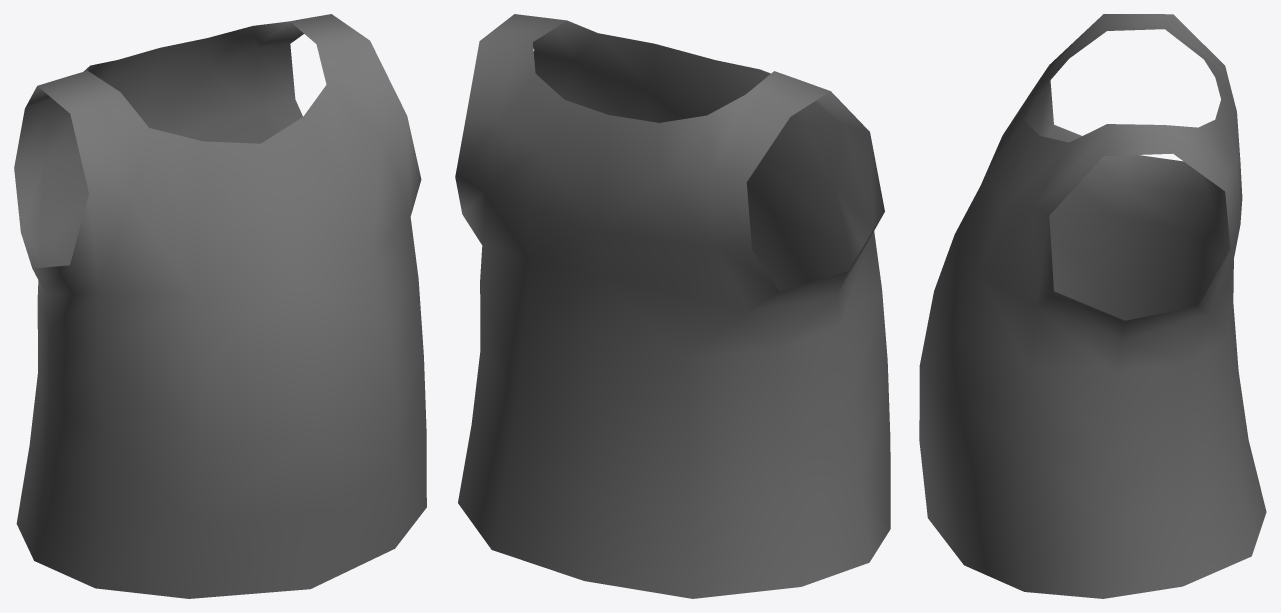
File: Outerwear_Black_002.glb
3 views of the same model, side by side, from view 1: azimuth 30°, elevation 25°; view 2: azimuth 150°, elevation 25°; view 3: azimuth 270°, elevation 25° (orthographic). The views are drawn at different scales.
Parts seen in each view (by area): view 1: Outerwear_Black_002; view 2: Outerwear_Black_002; view 3: Outerwear_Black_002.
Boxes of the visible parts, x1,y1,x2,y2 form: Outerwear_Black_002: (14, 14, 426, 598); Outerwear_Black_002: (455, 14, 890, 598); Outerwear_Black_002: (919, 14, 1266, 598).
Bounding box in the file's own units: 0.4413 × 0.5137 × 0.3665.
1 material, 1 textured.
